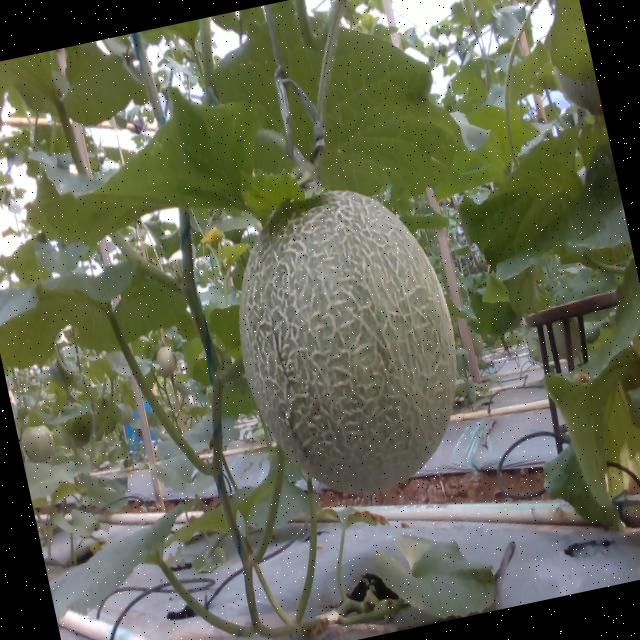melon: (240, 190, 455, 492)
